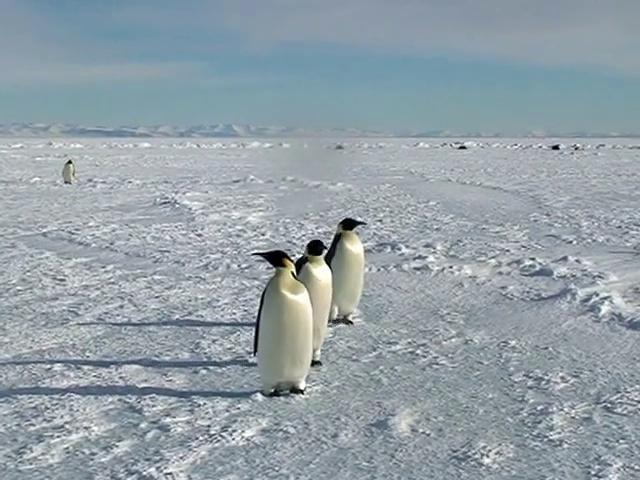animal: (326, 219, 367, 324)
